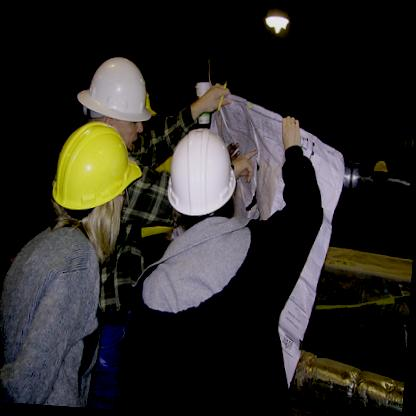helmet: (42, 102, 148, 249), (146, 116, 256, 250), (74, 43, 160, 166)
